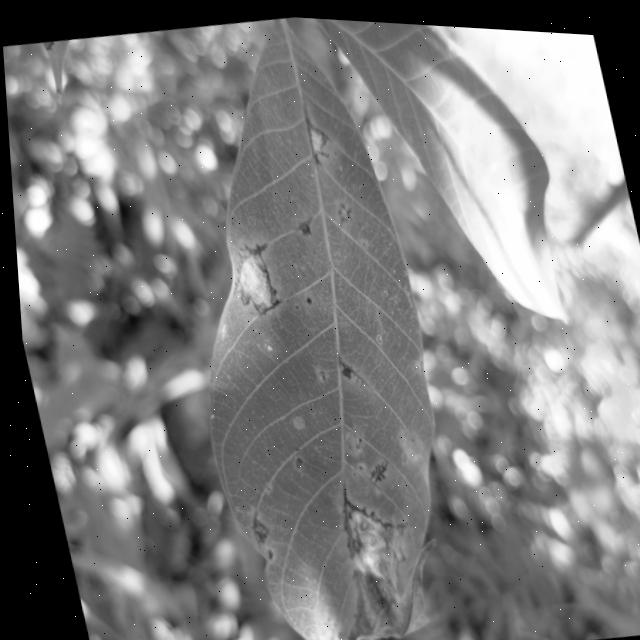Colletotrichum: (288, 455, 297, 466), (370, 329, 377, 341), (261, 340, 268, 350), (301, 293, 308, 302)
Corynespora: (333, 477, 386, 532), (297, 96, 334, 164), (330, 347, 369, 390), (239, 506, 265, 548), (359, 455, 385, 483), (289, 212, 314, 238), (250, 293, 279, 315), (332, 197, 353, 226), (240, 238, 267, 259)
Leaf-Blight: (281, 485, 452, 640), (227, 249, 270, 309), (306, 121, 324, 151)
